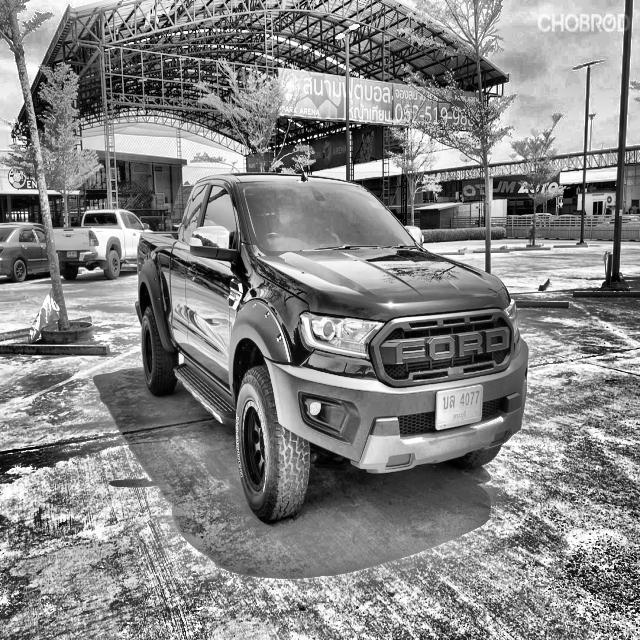license-plate: (435, 381, 488, 432)
